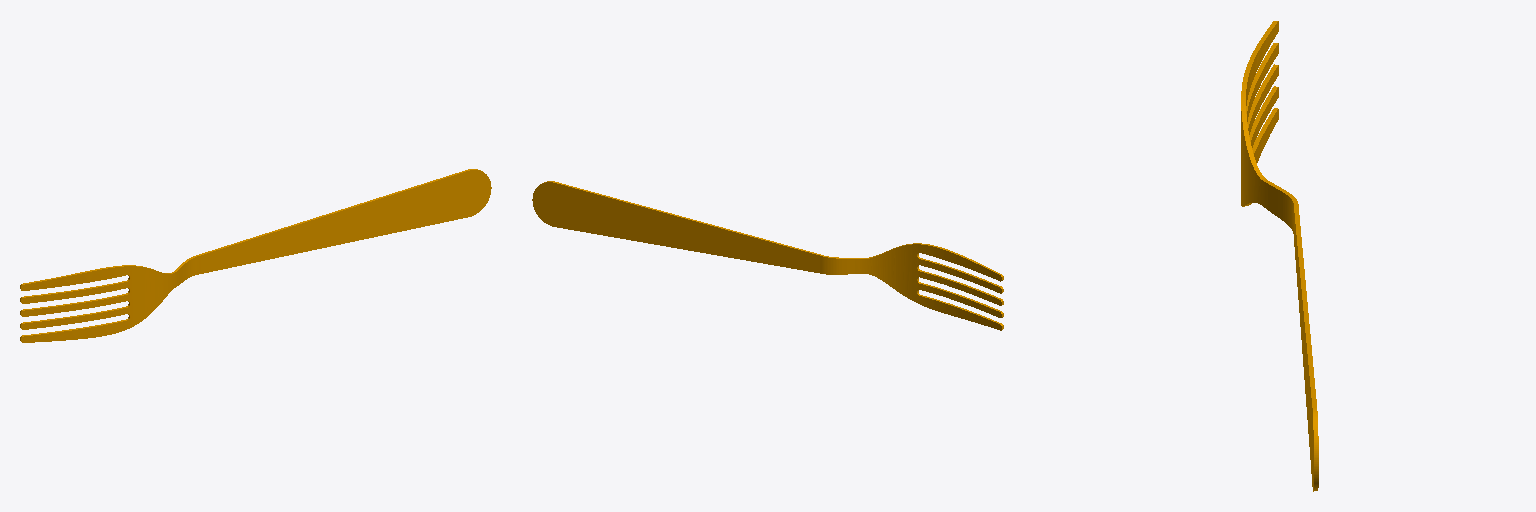
The robot description file, URDF, robot "Fork":
<?xml version="1.0"?>
<robot name="Fork">
  <link name="base_link">
    <inertial>
      <origin xyz="0.099324 0.002589 0.000002" rpy="0 0 0" />
      <mass value="0.002549" />
      <inertia ixx="0.00000015" ixy="-0.00000077" ixz="0.00000000"
               iyy="0.00000930" iyz="0.00000000" izz="0.00000931" />
    </inertial>
    <visual>
      <geometry><mesh filename="Fork.stl" scale="1.0 1.0 1.0" /></geometry>
    </visual>
    <collision>
      <geometry><mesh filename="Fork_col.obj" scale="1.0 1.0 1.0" /></geometry>
    </collision>
    <contact>
      <lateral_friction value="1.0"/>
    </contact>
  </link>
</robot>

--- Facts derived from the render (not from the file) ---
The picture shows the robot from 3 angles, left to right: view 1: azimuth 30°, elevation 25°; view 2: azimuth 150°, elevation 25°; view 3: azimuth 270°, elevation 25°; orthographic projection.
Model Fork with 1 links and 0 joints (none), rooted at base_link, posed all joints at 0.
Visible links, largest first — view 1: base_link; view 2: base_link; view 3: base_link.
Boxes of the visible links, x1,y1,x2,y2 form: base_link: (20,169,491,342); base_link: (532,181,1003,330); base_link: (1241,21,1318,491).
Bounding box of the posed robot: 0.195 × 0.0161 × 0.0259 m (x, y, z).
1 mesh visuals loaded from 1 distinct referenced files (1 binary STL).
